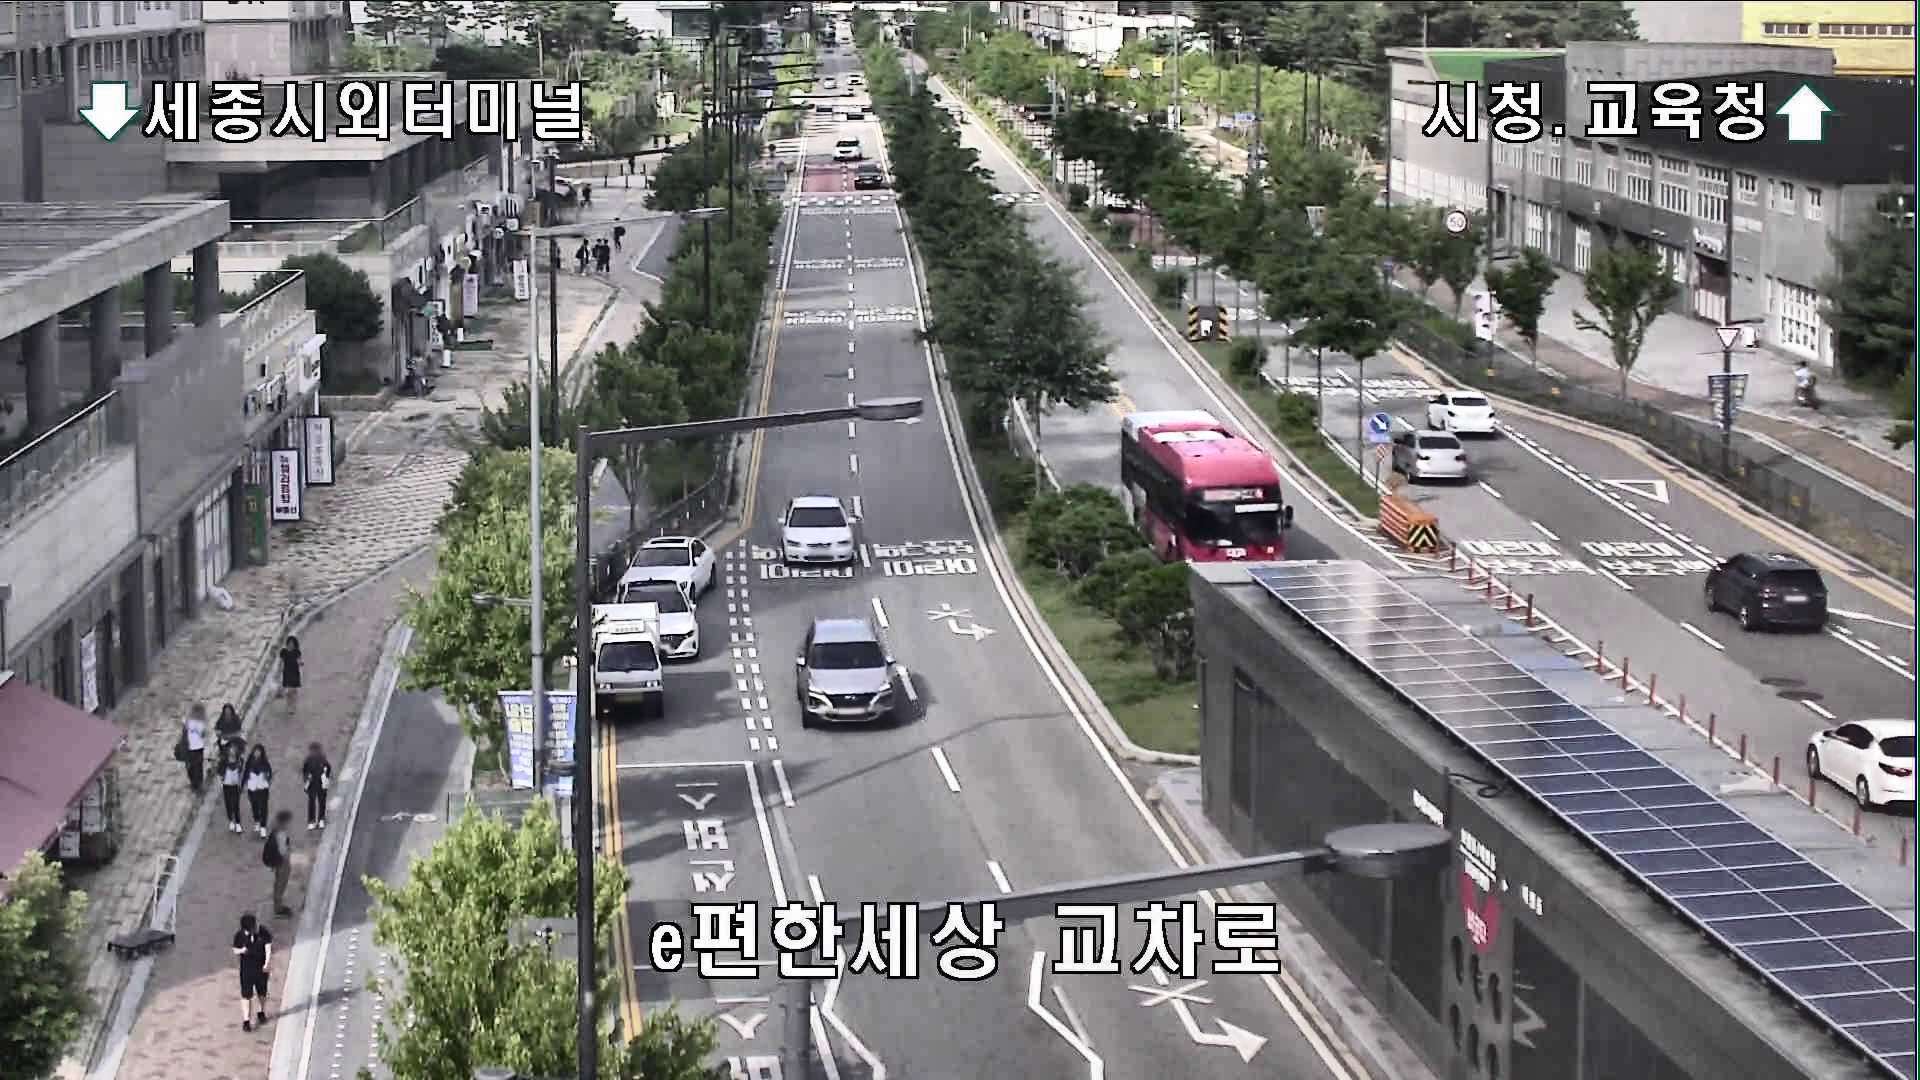sidewalk: (228, 911, 273, 1034), (261, 810, 295, 916), (301, 738, 334, 832), (177, 699, 208, 795), (244, 741, 273, 841), (215, 738, 245, 833), (276, 636, 307, 715), (214, 702, 245, 752), (1789, 359, 1813, 406), (574, 236, 589, 276), (596, 237, 612, 277), (611, 216, 626, 252)
